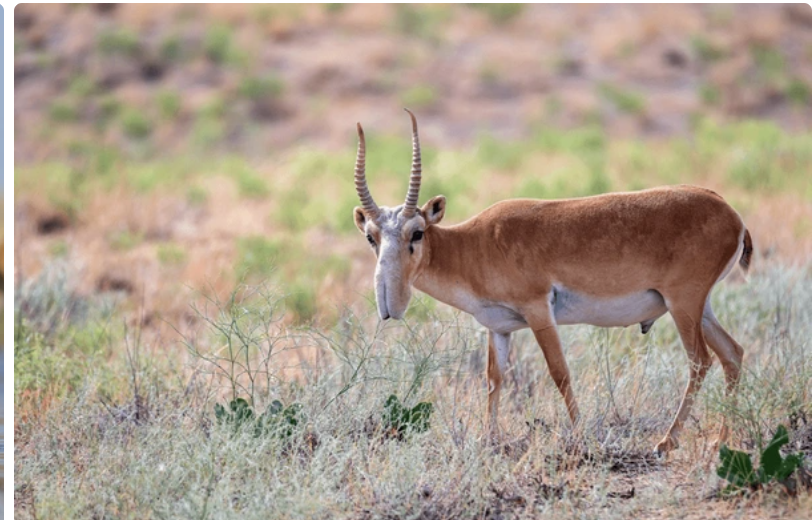saiga: (343, 109, 762, 435)
